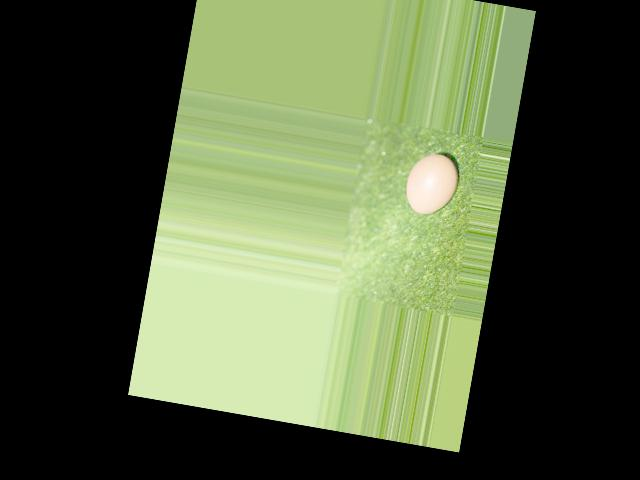egg: (403, 150, 462, 219)
